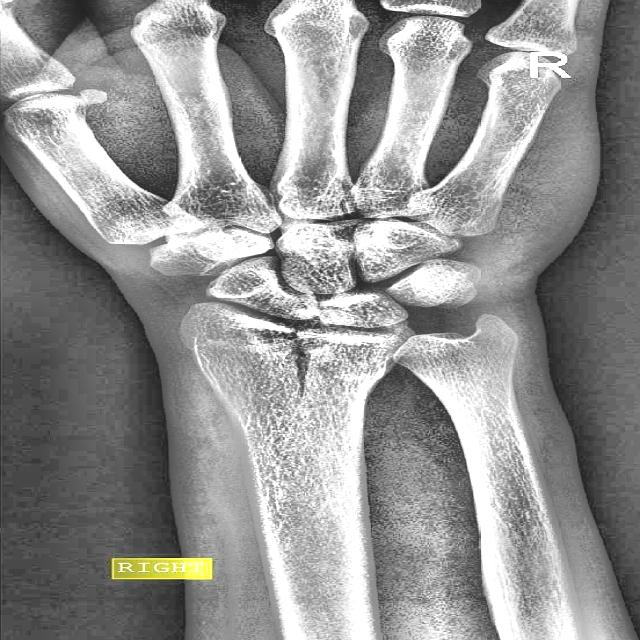line: (260, 331, 324, 401)
